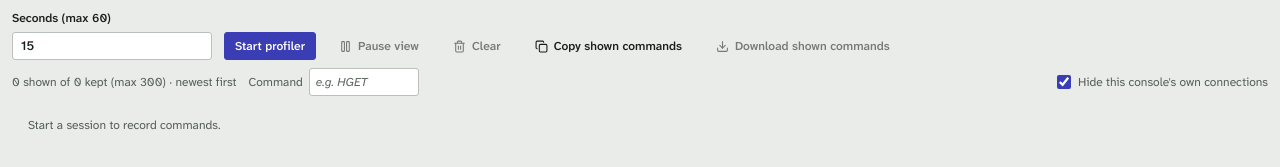
Test: profiler controls (F25) › Stop ends the session and does not start a new one
The image size is (1280, 167).
Click the button with test id "drawer-profiler-start" at (270, 46), box [224, 32, 316, 60]
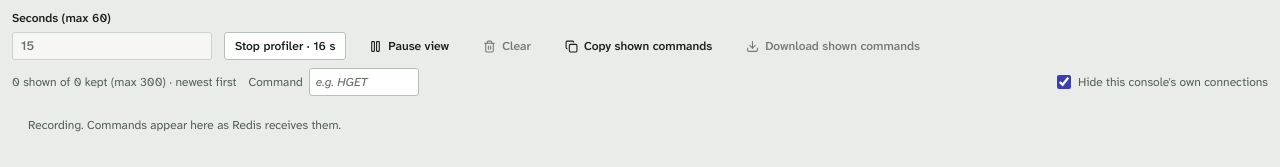
Click the button with test id "drawer-profiler-stop" at (285, 46), box [224, 32, 346, 60]
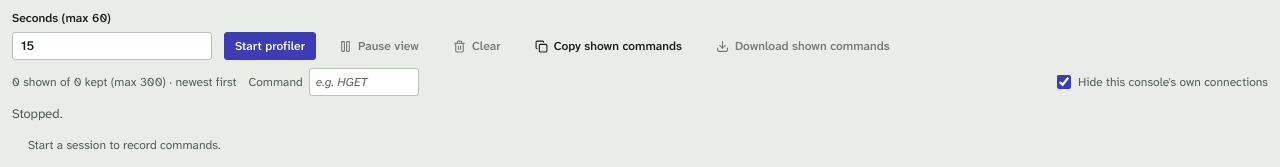
expect the button with test id "drawer-profiler-start" is shown: met, box [224, 32, 316, 60]
expect the button with test id "drawer-profiler-stop" is gone: met
